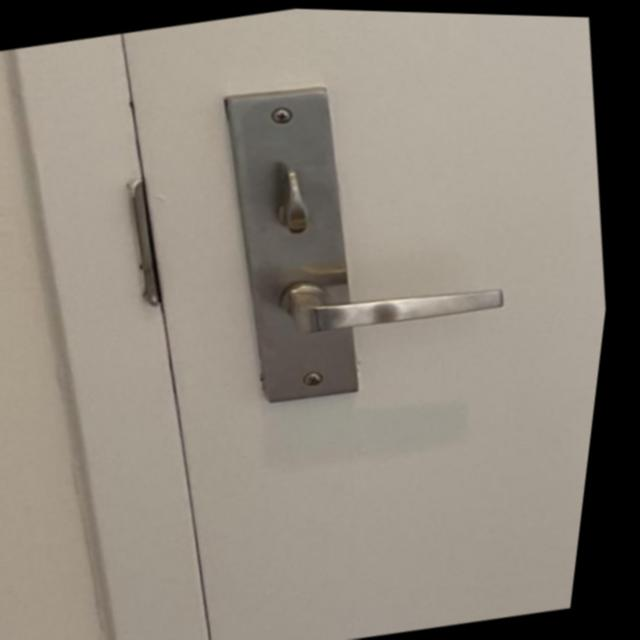door_handle: (246, 226, 537, 364)
